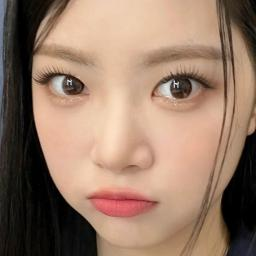face: (34, 0, 244, 248)
